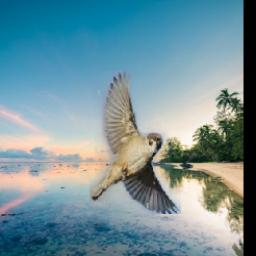Sparrow: (89, 71, 181, 214)
